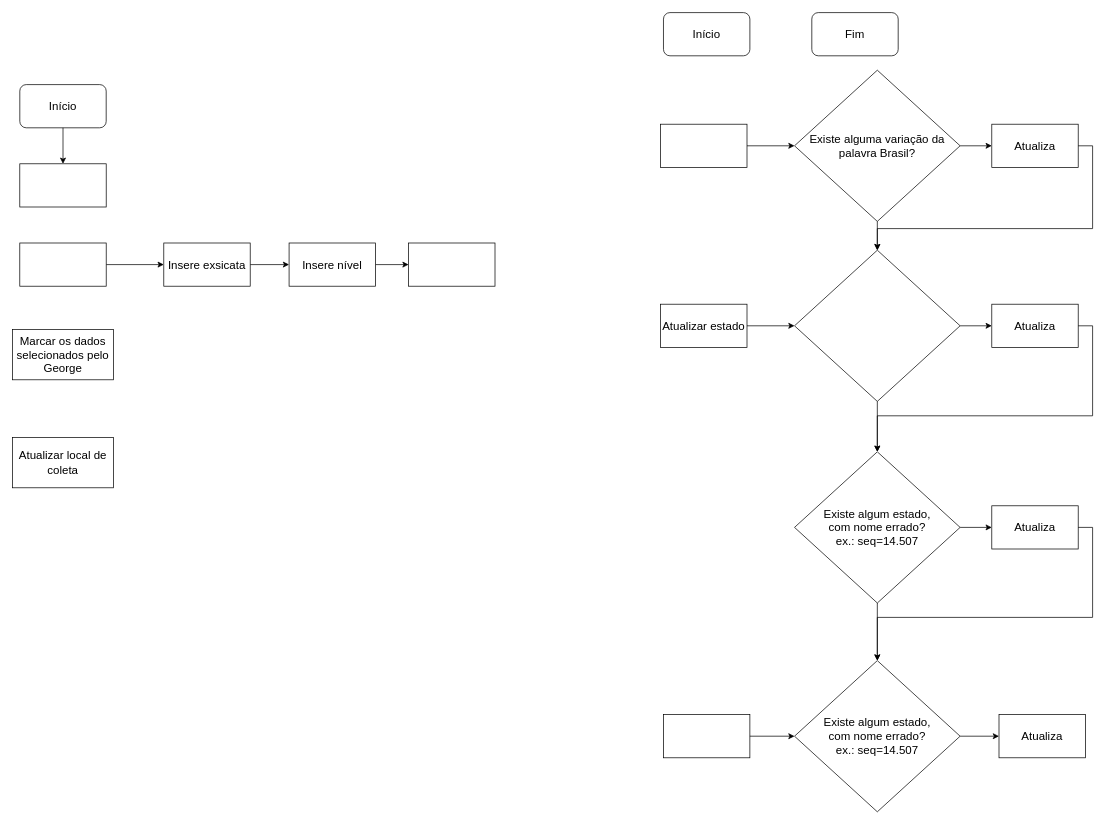
The diagram is 1111 pixels wide and 824 high, and some of its shapes have lost their labels. The shapes that lost their labels are listed below. From the top down, each one's centre as x and y in pixels, then its label:
At point 703,145: "Atualizar país".
At point 62,185: "Inserir cidades".
At point 62,264: "Inserir dados das exsicatas".
At point 451,264: "Insere identificador".
At point 877,325: "Existe alguma abreviação, no campo estado? ex.: seq=11.820".
At point 706,736: "Atualizar cidade".
